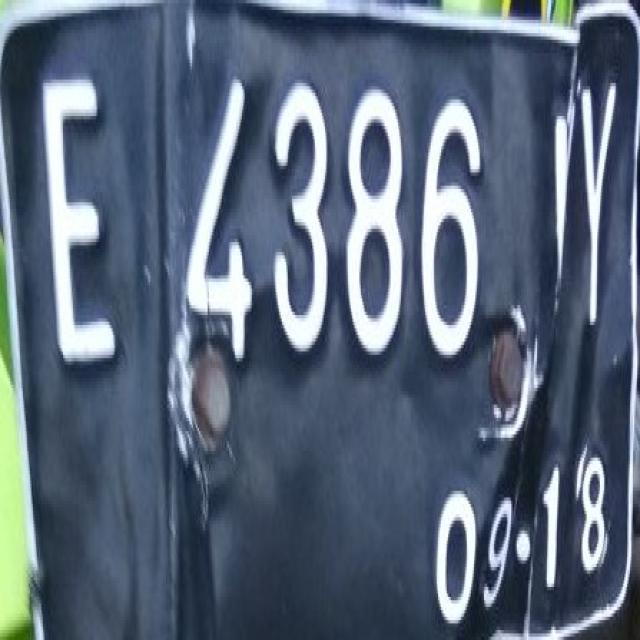plate: (0, 3, 633, 637)
